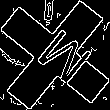M_SW: (21, 21, 89, 89)
